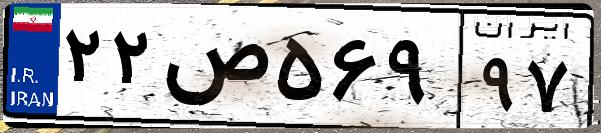2: (57, 26, 110, 100), (110, 28, 158, 98)
5: (270, 28, 330, 110)
6: (330, 28, 385, 110)
7: (525, 38, 570, 115)
9: (385, 28, 445, 110), (475, 38, 525, 113)
ص: (158, 20, 270, 120)
